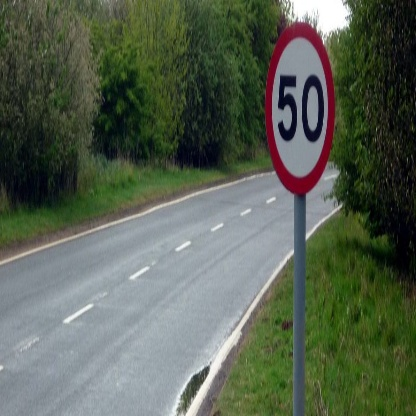limit2: (263, 21, 335, 197)
